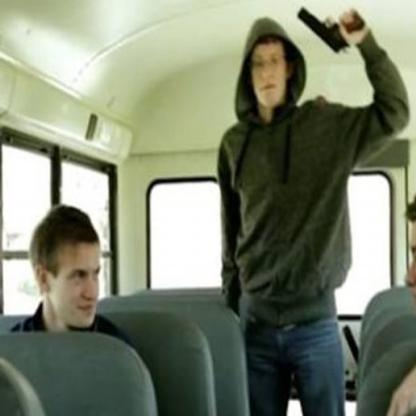gun: (298, 4, 364, 54)
